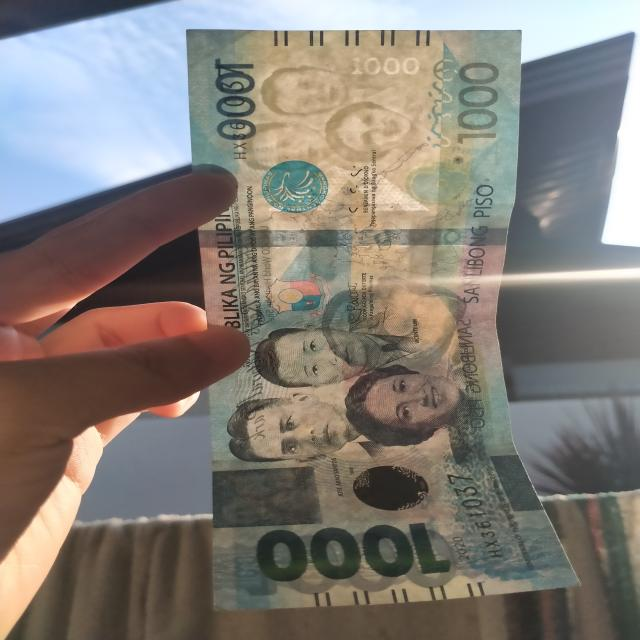concealed_value: (214, 466, 330, 525)
optically_variable_device: (338, 455, 447, 521)
security_thread: (199, 226, 507, 248)
see_through_mark: (427, 54, 458, 156)
value_watermark: (347, 55, 427, 78)
watermark: (238, 69, 422, 177)
